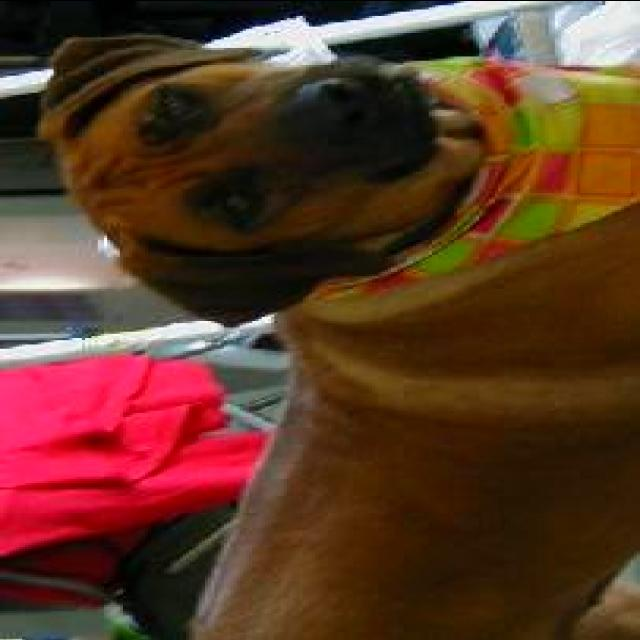rhodesian_ridgeback: (25, 28, 637, 636)
